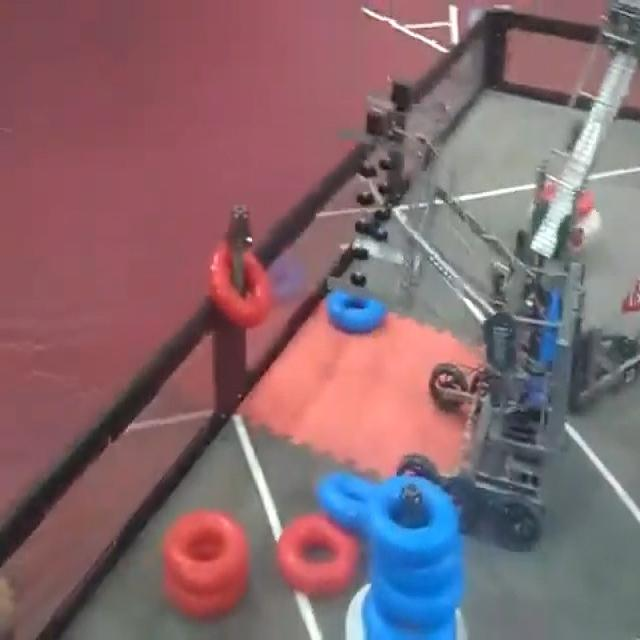Blue-Ring: (369, 477, 460, 566), (362, 587, 454, 640), (370, 577, 458, 631), (373, 548, 462, 596), (316, 472, 377, 536), (326, 290, 388, 333)
Red-Ring: (276, 513, 359, 597), (164, 513, 248, 592), (209, 240, 269, 328), (164, 577, 244, 618)
